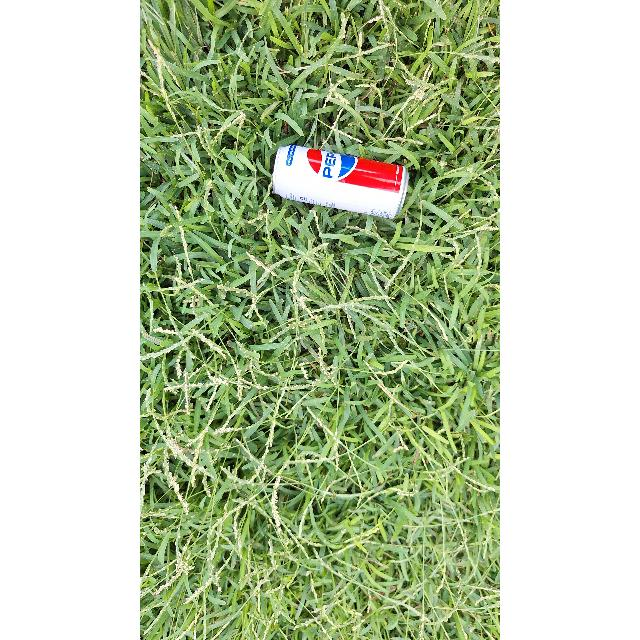Pepsi Retro: (267, 136, 408, 222)
